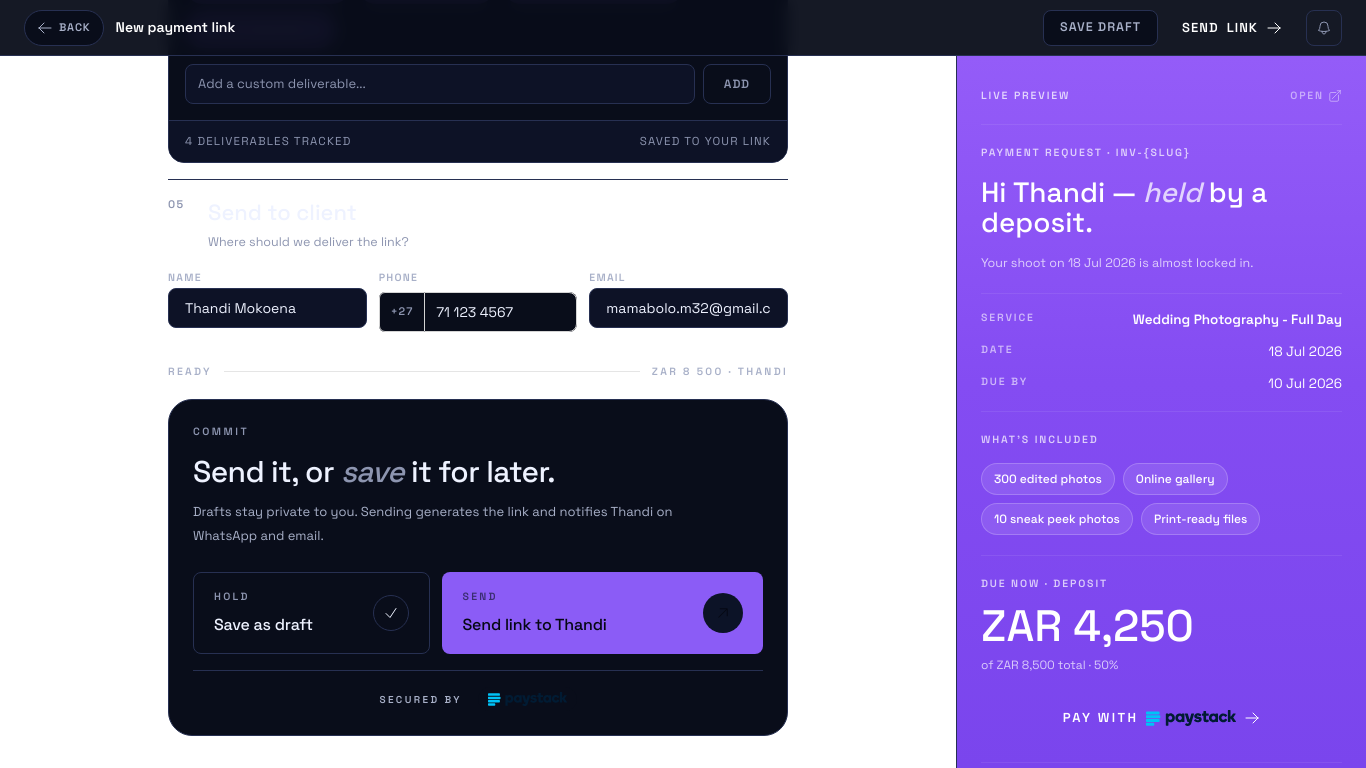
Scenario: CreatePaymentLinkPage layout › shows the sign-in modal when a guest saves a draft
(page scrolled)
Click the button "Hold Save as draft". click: (312, 613)
box: [193,572,430,654]
Wait 2500 ms
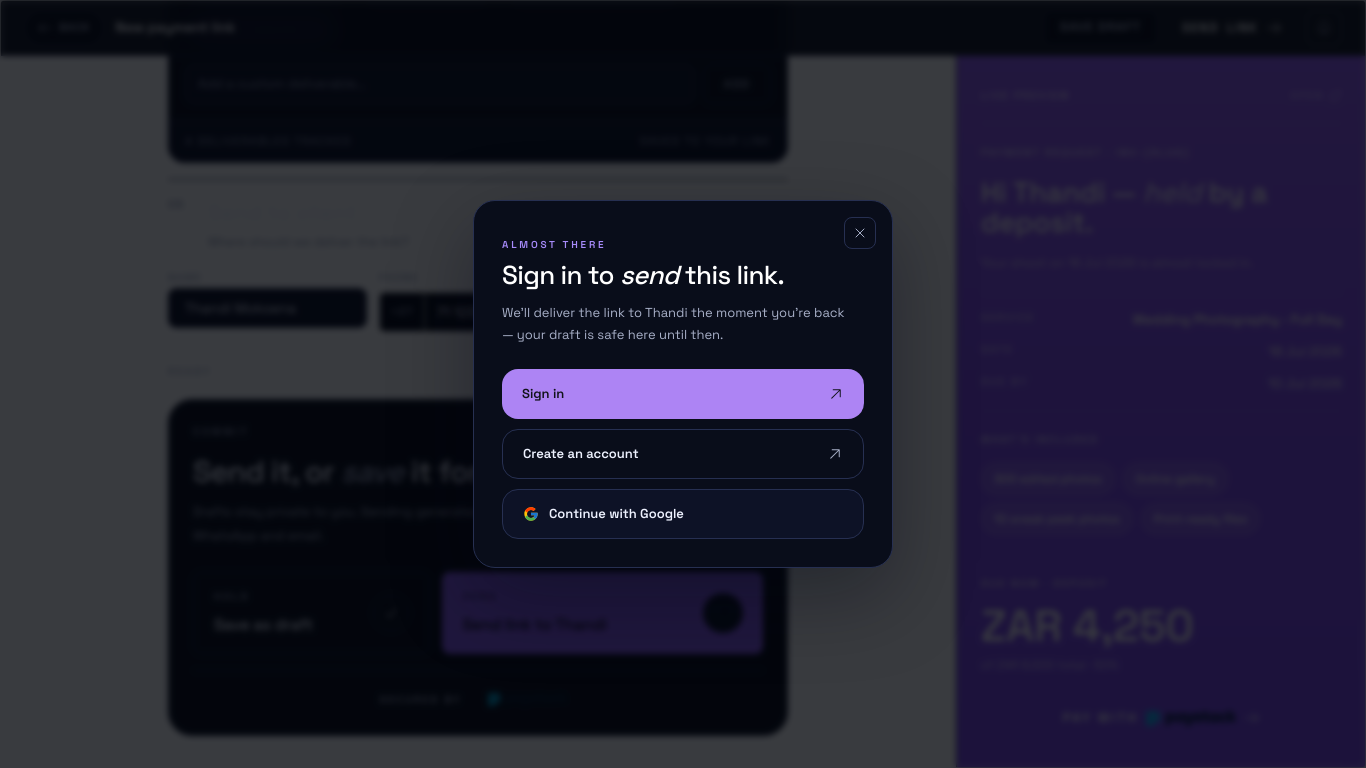
Now the heading "Sign in to send this link." is shown, box [502,258,784,292]
